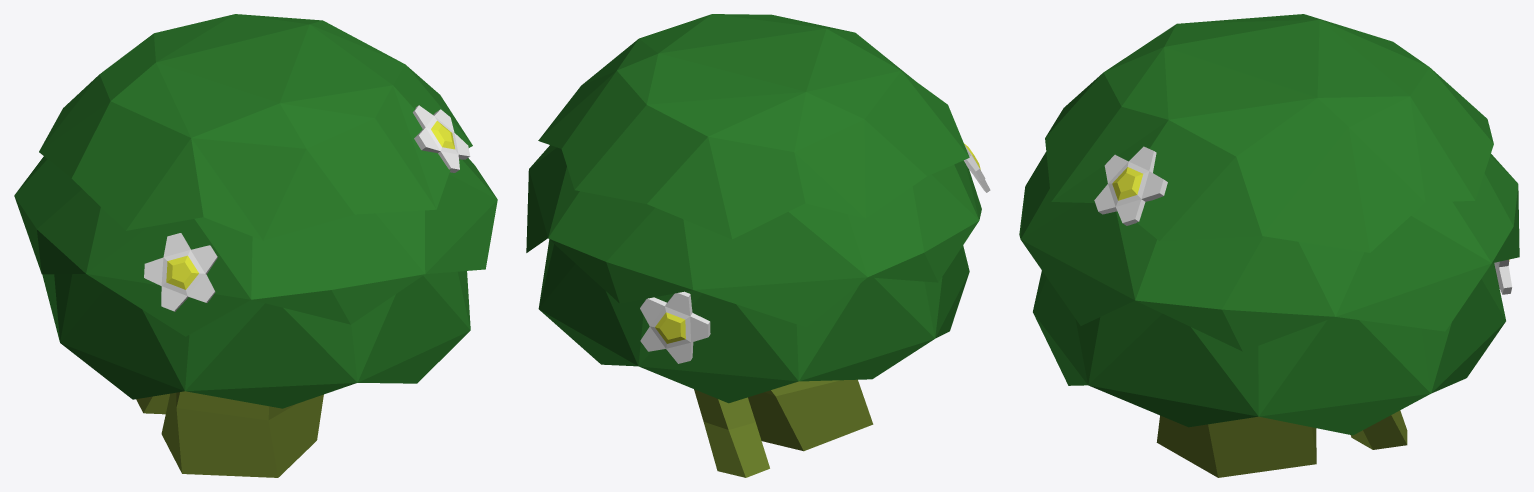
The model's file is Bush.gltf.
3 renders of one model, left to right at view 1: azimuth 30°, elevation 25°; view 2: azimuth 150°, elevation 25°; view 3: azimuth 270°, elevation 25°, orthographic. The views are drawn at different scales.
Parts seen in each view (by area): view 1: BushTop, BushStem, Flowers; view 2: BushTop, BushStem, Flowers; view 3: BushTop, BushStem, Flowers.
Boxes of the visible parts, x1=… form: BushTop: x1=14, y1=14, x2=497, y2=408; BushStem: x1=136, y1=391, x2=323, y2=477; Flowers: x1=144, y1=105, x2=470, y2=311; BushTop: x1=526, y1=14, x2=981, y2=403; BushStem: x1=694, y1=379, x2=873, y2=477; Flowers: x1=640, y1=143, x2=990, y2=363; BushTop: x1=1019, y1=14, x2=1519, y2=435; BushStem: x1=1156, y1=410, x2=1407, y2=477; Flowers: x1=1094, y1=146, x2=1512, y2=294.
Size of the model in its own units: 3.21 by 2.84 by 3.21.
